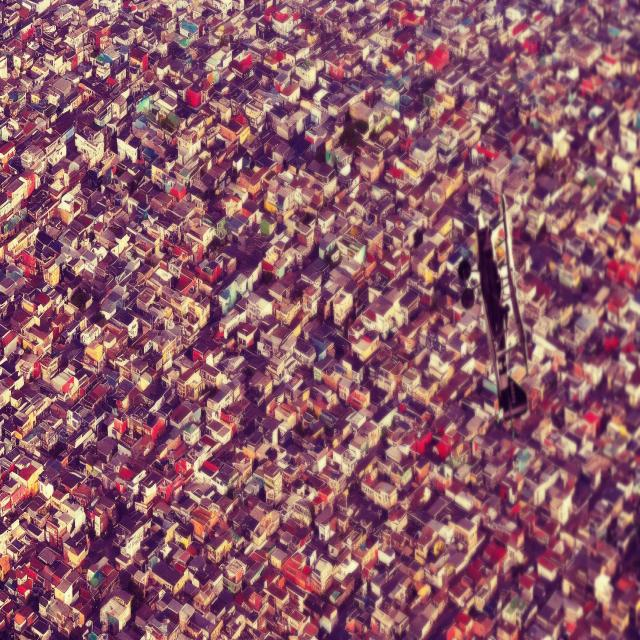airplane: (472, 192, 530, 430)
